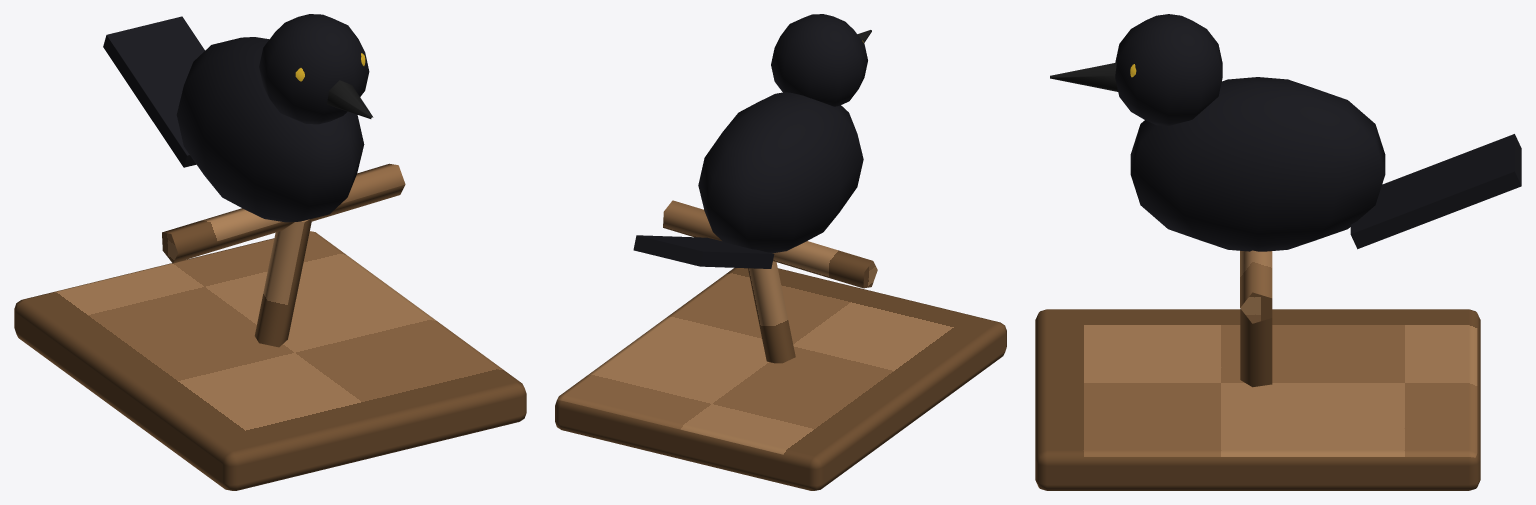
The model's file is stuffedRaven.glb.
The picture shows the model from 3 angles, left to right: view 1: azimuth 30°, elevation 25°; view 2: azimuth 150°, elevation 25°; view 3: azimuth 270°, elevation 25°; orthographic projection. The views are drawn at different scales.
Visible parts, largest first — view 1: dyn_wood_variant, stuffedRaven; view 2: dyn_wood_variant, stuffedRaven; view 3: dyn_wood_variant, stuffedRaven.
Boxes of the visible parts, <box> form: dyn_wood_variant: <box>14,163,526,490</box>; stuffedRaven: <box>103,14,373,222</box>; dyn_wood_variant: <box>555,200,1006,490</box>; stuffedRaven: <box>633,14,871,268</box>; dyn_wood_variant: <box>1035,250,1480,490</box>; stuffedRaven: <box>1050,14,1521,251</box>.
Bounding box in the file's own units: 0.2401 × 0.2981 × 0.3277.
Materials: 4 (1 with a texture image).
